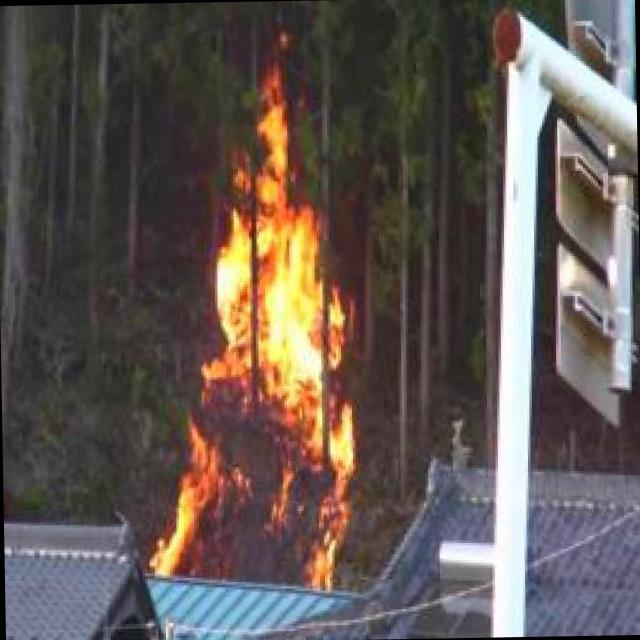Fire: (158, 78, 354, 592)
